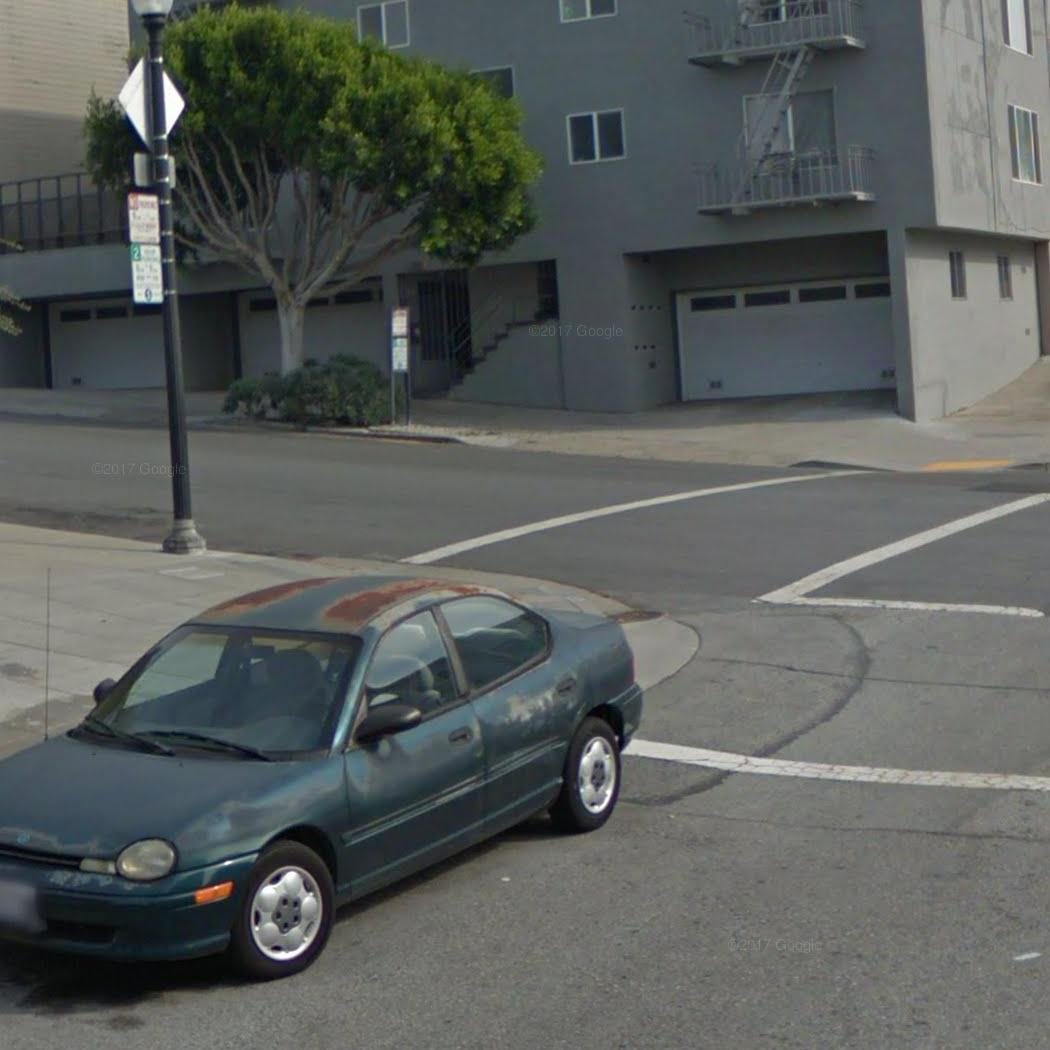2 Hour Parking: (128, 244, 165, 306), (390, 336, 411, 373)
No Parking: (127, 191, 162, 246), (390, 307, 411, 336)
